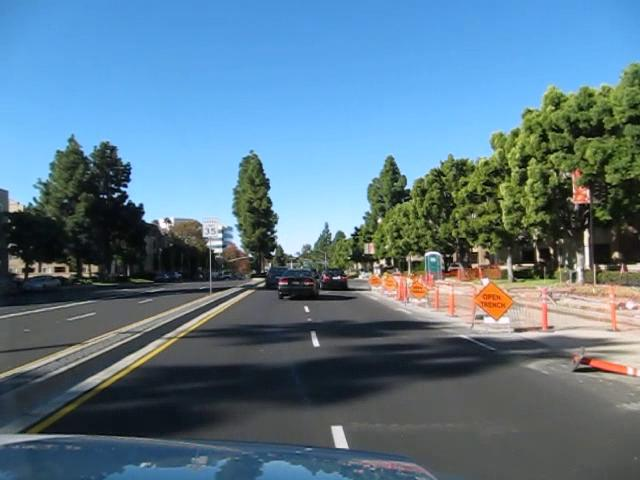speedLimit35: (202, 217, 217, 236)
